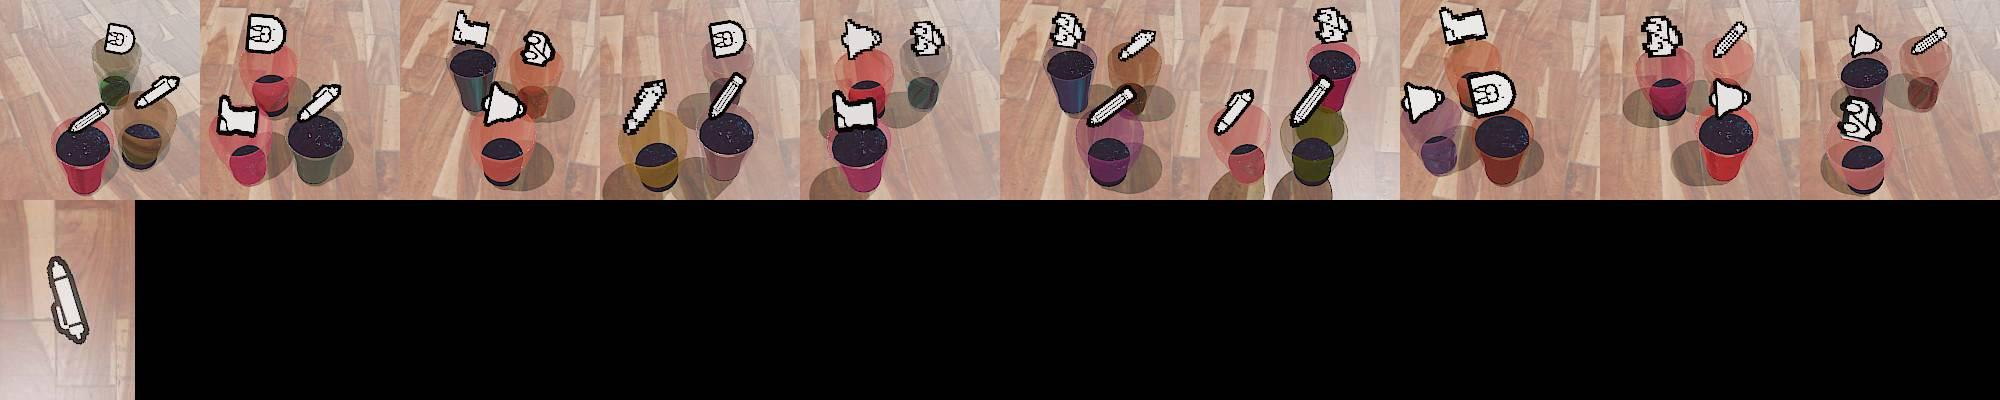icon: (46, 254, 89, 348), (1462, 70, 1517, 118), (624, 76, 668, 134), (1088, 84, 1136, 129), (1290, 75, 1333, 125), (832, 87, 880, 130), (1437, 5, 1489, 46), (483, 79, 527, 126), (1213, 88, 1255, 136), (707, 70, 747, 120), (1838, 94, 1881, 140), (1639, 14, 1682, 59), (297, 80, 342, 124), (217, 92, 260, 136), (1707, 76, 1753, 118), (1403, 80, 1446, 124), (134, 73, 182, 111), (841, 18, 883, 60), (245, 13, 287, 54), (708, 19, 747, 60), (1048, 10, 1087, 51), (452, 9, 490, 50), (1312, 6, 1352, 45), (1712, 20, 1749, 59), (908, 19, 945, 57), (70, 101, 112, 134), (520, 28, 556, 66), (1117, 28, 1157, 62), (1848, 24, 1880, 59), (103, 22, 135, 56), (1912, 27, 1949, 56)
